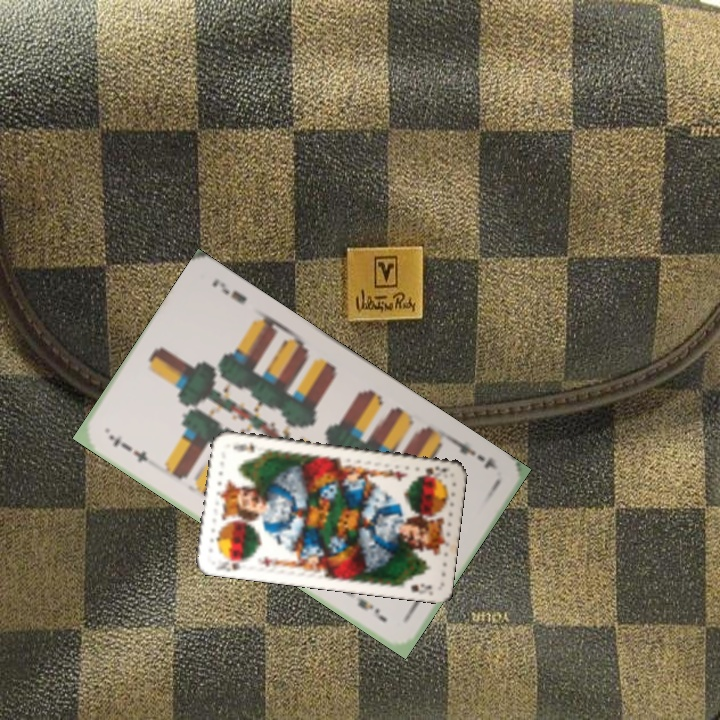E7: (448, 434, 501, 473), (104, 430, 151, 466)
SK: (211, 554, 250, 573), (422, 462, 451, 477)
